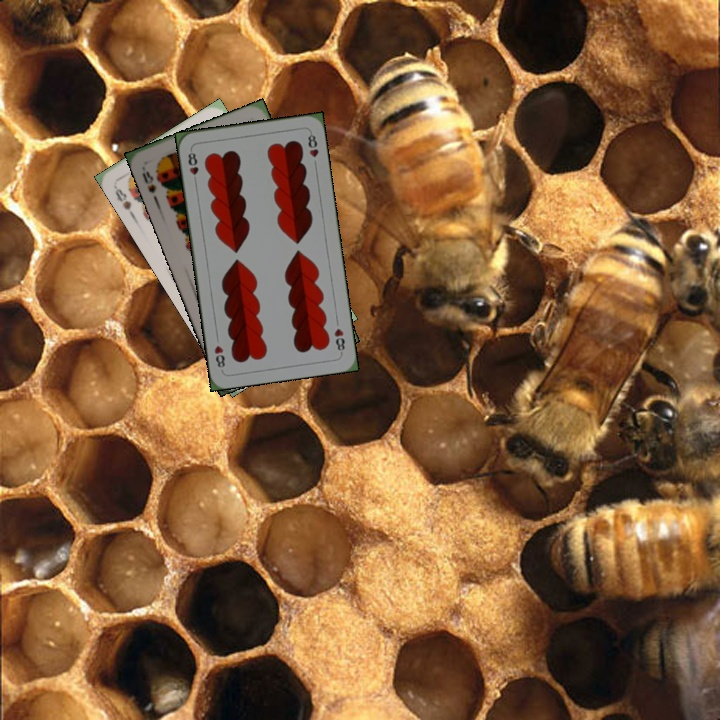H8: (184, 146, 201, 186), (330, 324, 347, 356)
S8: (110, 181, 134, 213), (138, 163, 159, 196)
